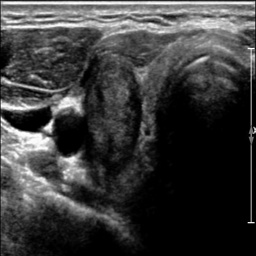mass: (82, 58, 139, 168)
